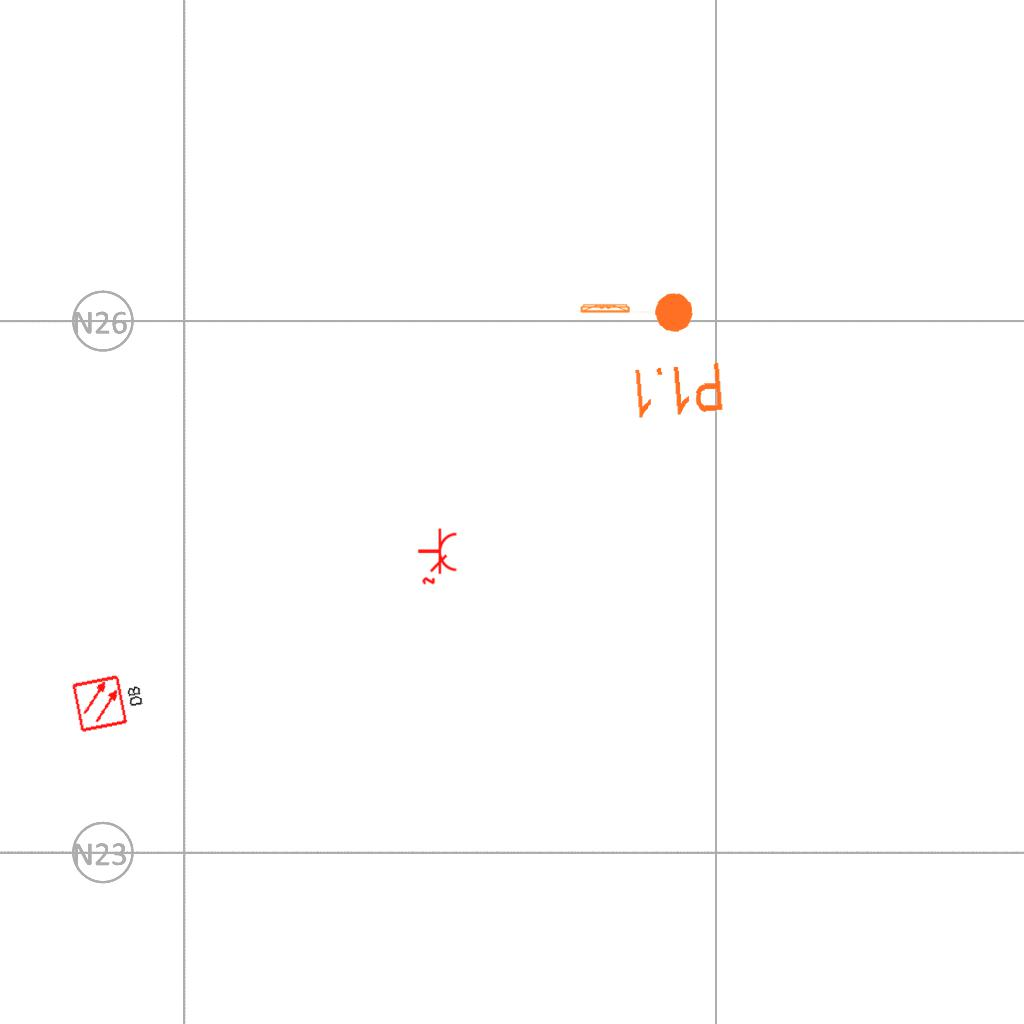DB_Melder_in_Doppelboden_mit_Revisionsoeffnung_mind_40_x_40_cm: (67, 665, 152, 737)
Downlight_LED_Einbauleuchten_Flur_2: (622, 286, 727, 422)
Schukosteckdose_mehrfach: (415, 526, 459, 586)
Sicherheitsleuchte_Wandeinbau: (578, 302, 657, 314)
